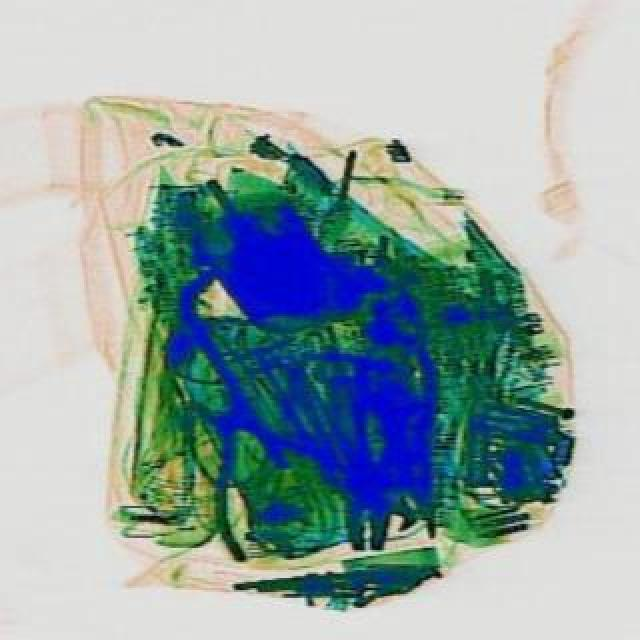wrench: (150, 362, 358, 572), (322, 402, 406, 550)
